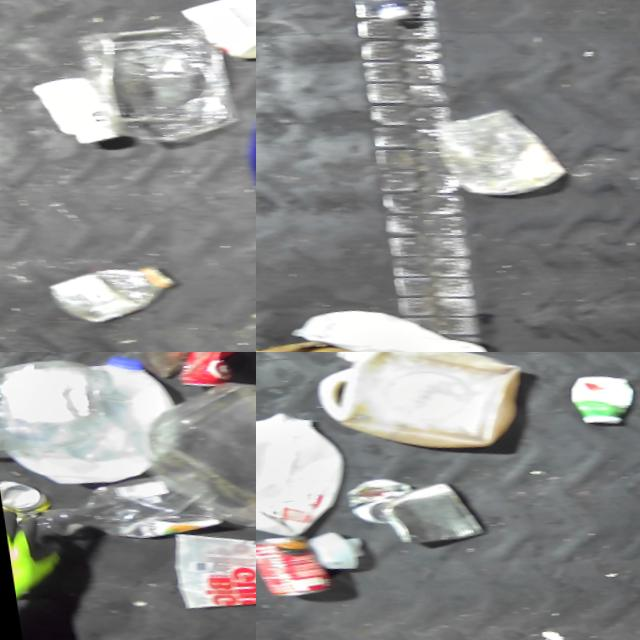can: (377, 466, 485, 548), (256, 523, 330, 601), (340, 465, 417, 526), (169, 352, 251, 388), (0, 472, 52, 523)
milk_jug: (0, 352, 189, 498), (307, 352, 533, 463), (256, 396, 354, 548), (284, 280, 489, 352)
plastic_bottle: (43, 251, 179, 332)
